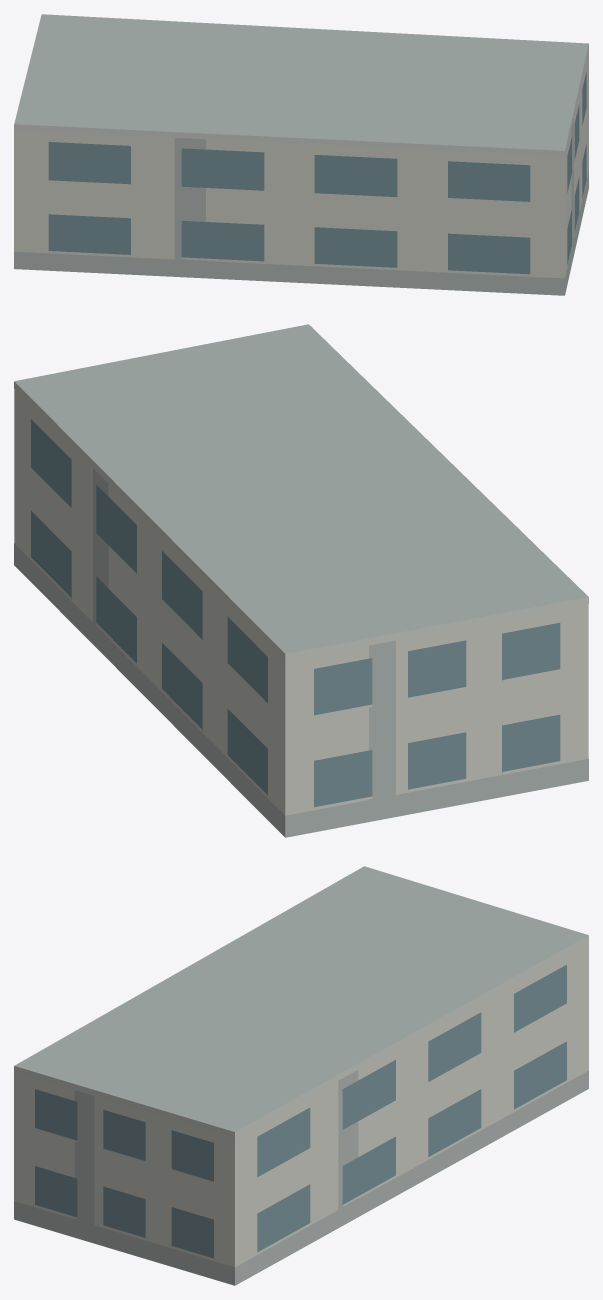
File: residential-347d9c10-e92a-40a5-a6f0-d825a1341563.glb
3 renders of one model, top to bottom at view 1: azimuth 30°, elevation 25°; view 2: azimuth 150°, elevation 25°; view 3: azimuth 270°, elevation 25°, orthographic. The views are drawn at different scales.
Parts seen in each view (by area): view 1: residential-347d9c10-e92a-40a5-a6f0-d825a1341563.tmp; view 2: residential-347d9c10-e92a-40a5-a6f0-d825a1341563.tmp; view 3: residential-347d9c10-e92a-40a5-a6f0-d825a1341563.tmp.
Boxes of the visible parts, x1,y1,x2,y2 form: residential-347d9c10-e92a-40a5-a6f0-d825a1341563.tmp: [14, 14, 588, 295]; residential-347d9c10-e92a-40a5-a6f0-d825a1341563.tmp: [14, 324, 588, 837]; residential-347d9c10-e92a-40a5-a6f0-d825a1341563.tmp: [14, 866, 588, 1285].
Bounding box in the file's own units: 22.66 × 6.1 × 20.69.
